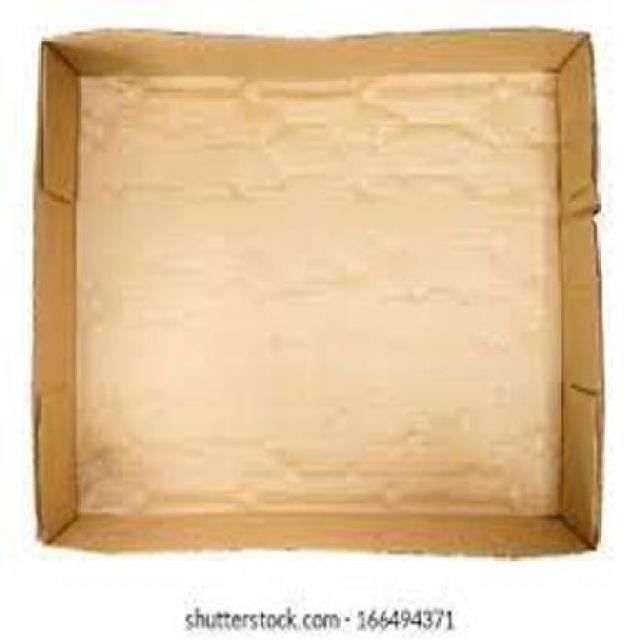defect: (77, 74, 561, 509)
